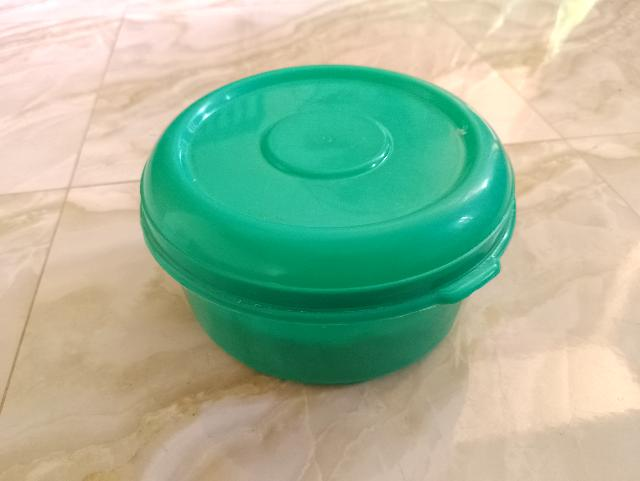hardplastic: (132, 67, 532, 386)
